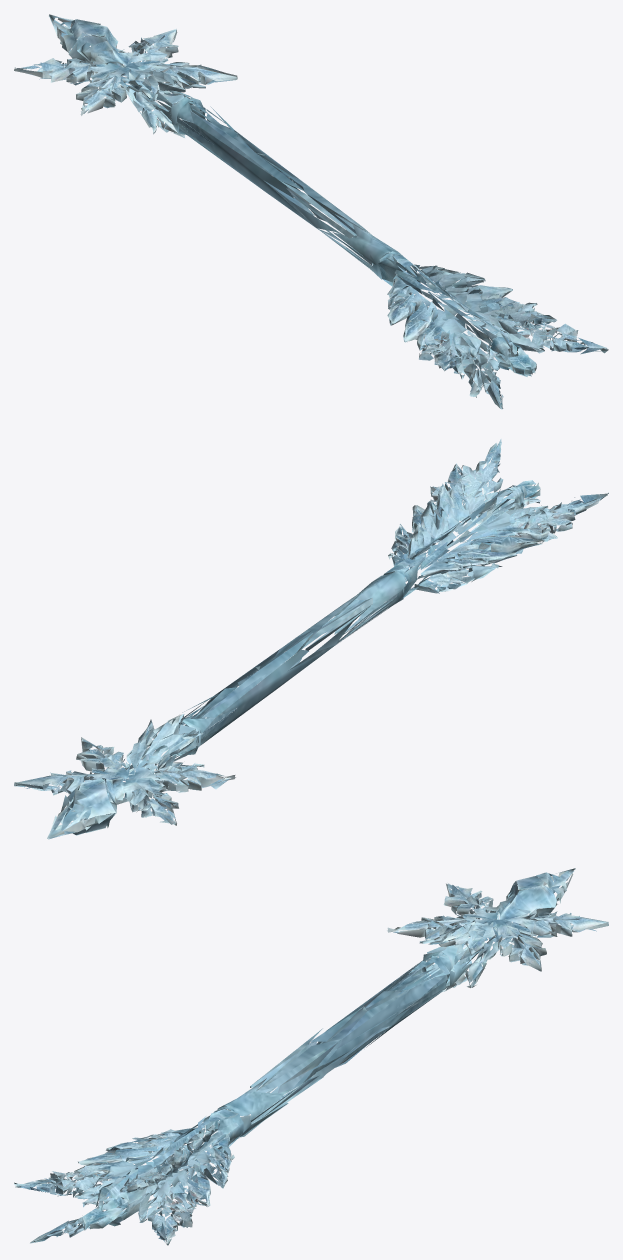
The model's file is snowflake.glb.
3 views of the same model, one above another, from view 1: azimuth 30°, elevation 25°; view 2: azimuth 150°, elevation 25°; view 3: azimuth 330°, elevation 25° (orthographic).
Parts seen in each view (by area): view 1: Mesh_0; view 2: Mesh_0; view 3: Mesh_0.
Part boxes in pixels (<box>): Mesh_0: <box>14,14,608,409</box>; Mesh_0: <box>14,439,608,839</box>; Mesh_0: <box>14,868,608,1245</box>.
Size of the model in its own units: 0.189 by 0.0804 by 0.9991.
1 material, 1 textured.
